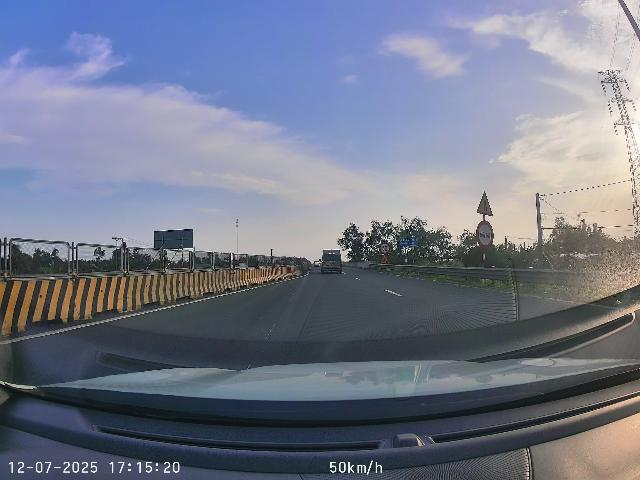125-cam-vuot: (476, 220, 494, 249)
127-toc-do-toi-da-50: (379, 242, 391, 254)
